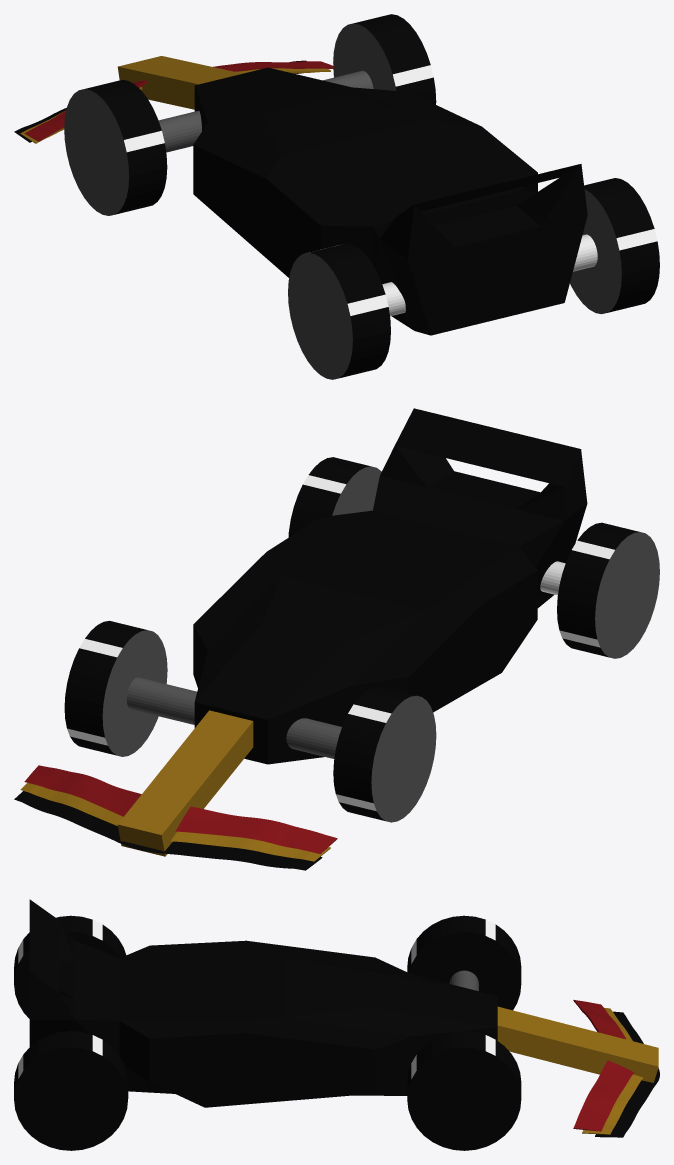
The picture shows the model from 3 angles, top to bottom: view 1: azimuth 30°, elevation 25°; view 2: azimuth 150°, elevation 25°; view 3: azimuth 270°, elevation 25°; orthographic projection. The views are drawn at different scales.
Parts seen in each view (by area): view 1: Body, Front Left Wheel, Back Left Wheel, Back Rear Wheel, Front Right Wheel, Nose, Front Axel, FW3, Rear Axel; view 2: Body, Back Left Wheel, Front Left Wheel, Front Right Wheel, Nose, FW3, Back Rear Wheel, Front Axel, FW1, FW2; view 3: Body, Back Rear Wheel, Front Right Wheel, Front Left Wheel, Nose, FW3, Back Left Wheel, FW1, FW2, Front Axel.
Part boxes in pixels (x1,y1,x2,y2): Body: (193, 67, 587, 335); Front Left Wheel: (64, 79, 167, 215); Back Left Wheel: (288, 243, 390, 379); Back Rear Wheel: (570, 178, 659, 314); Front Right Wheel: (333, 14, 436, 104); Nose: (117, 56, 242, 109); Front Axel: (158, 70, 373, 152); FW3: (24, 61, 333, 141); Rear Axel: (382, 234, 597, 316); Body: (193, 408, 587, 764); Back Left Wheel: (557, 522, 659, 658); Front Left Wheel: (333, 686, 436, 822); Front Right Wheel: (64, 620, 167, 756); Nose: (117, 710, 253, 856); FW3: (24, 765, 337, 853); Back Rear Wheel: (288, 457, 381, 537); Front Axel: (126, 677, 341, 758); FW1: (14, 791, 322, 870); FW2: (20, 783, 330, 861); Body: (29, 899, 497, 1107); Back Rear Wheel: (14, 1031, 128, 1150); Front Right Wheel: (407, 1031, 521, 1150); Front Left Wheel: (407, 915, 521, 1010); Nose: (497, 1006, 658, 1082); FW3: (573, 1000, 634, 1131); Back Left Wheel: (14, 915, 126, 1018); FW1: (595, 1011, 659, 1137); FW2: (582, 1007, 643, 1134); Front Axel: (449, 970, 478, 991).
Bounding box in the file's own units: 111 × 58.93 × 230.
